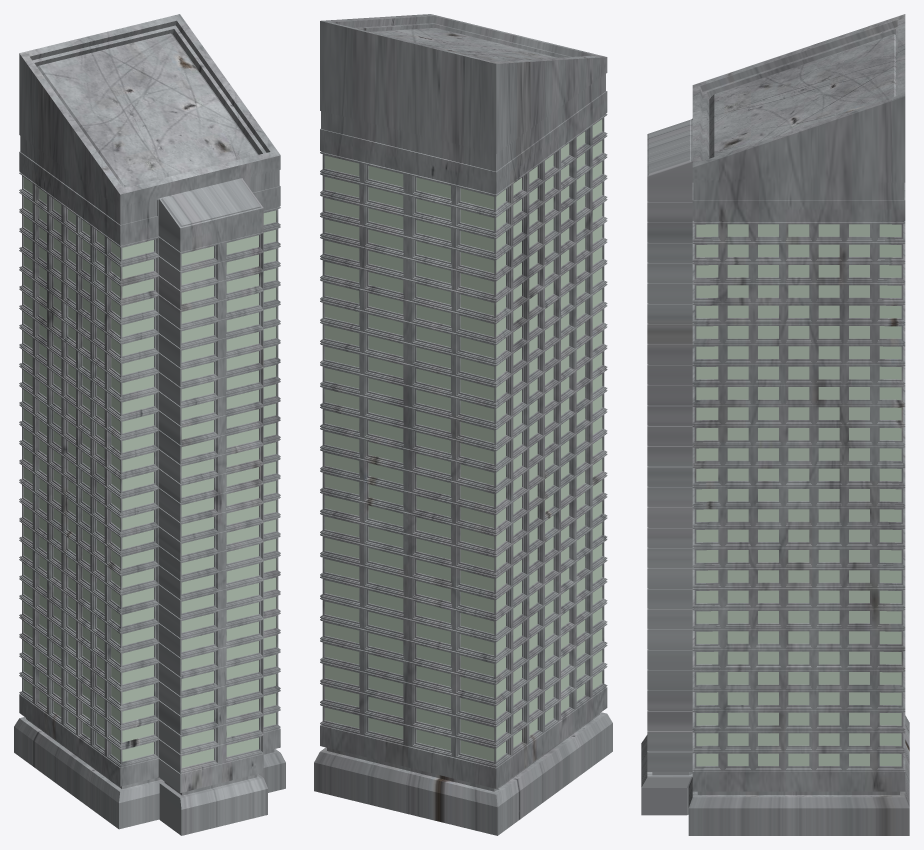
File: supertall.glb
3 renders of one model, left to right at view 1: azimuth 30°, elevation 25°; view 2: azimuth 150°, elevation 25°; view 3: azimuth 270°, elevation 25°, orthographic. The views are drawn at different scales.
Parts seen in each view (by area): view 1: Building - Warren Carr.003; view 2: Building - Warren Carr.003; view 3: Building - Warren Carr.003.
Part boxes in pixels (x1,y1,x2,y2): Building - Warren Carr.003: (14,14,285,835); Building - Warren Carr.003: (314,14,612,835); Building - Warren Carr.003: (641,14,909,835).
Size of the model in its own units: 60.03 by 241 by 79.24.
2 materials, 1 textured.
